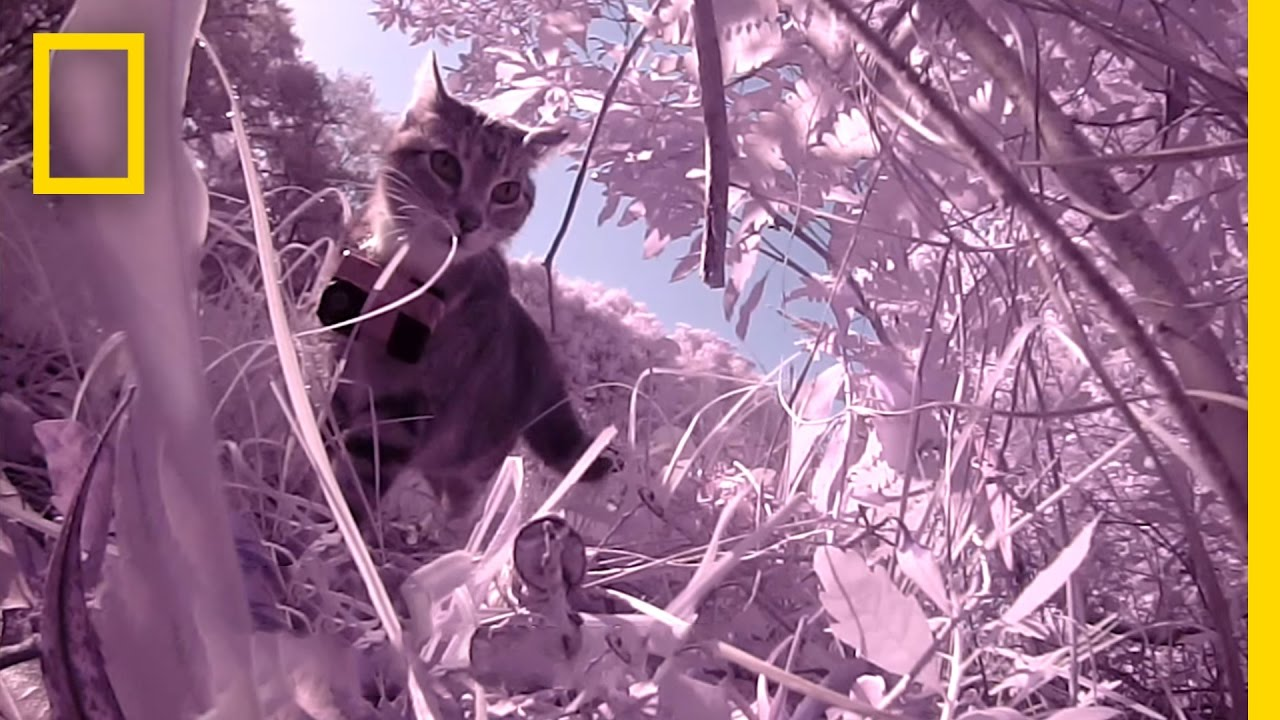house cat: (333, 40, 600, 554)
